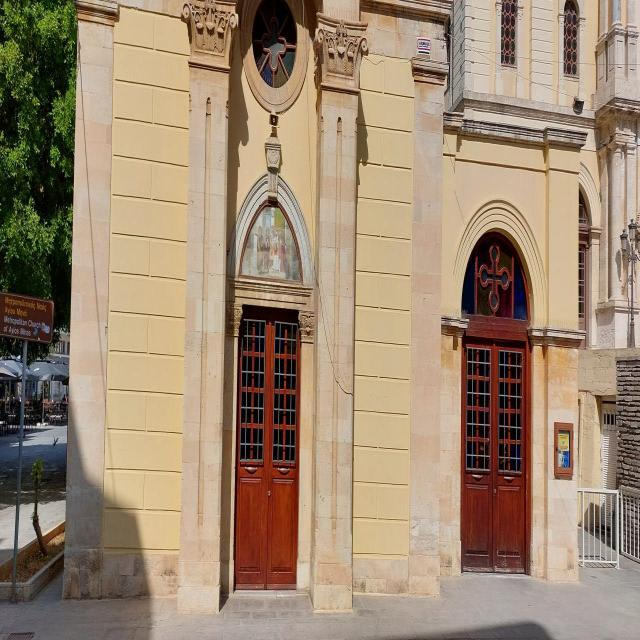Agios Minas: (63, 1, 593, 604)
